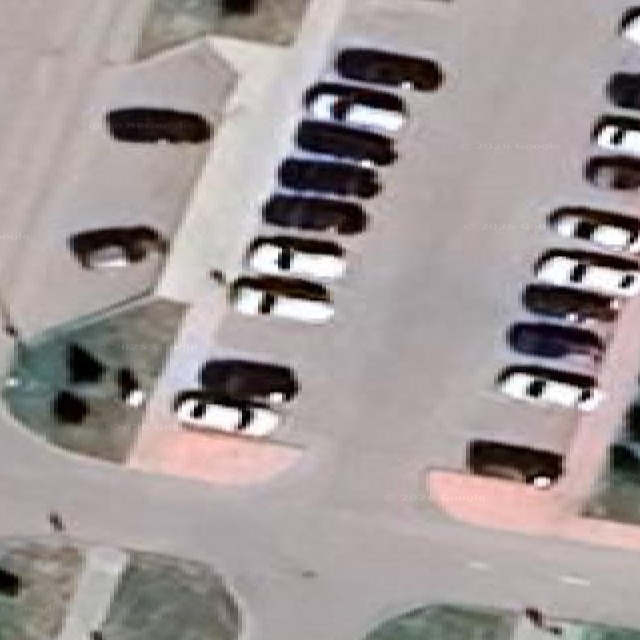car: (304, 83, 404, 131), (173, 390, 279, 435), (533, 251, 639, 296), (232, 276, 332, 323), (336, 47, 442, 91), (495, 366, 600, 409), (467, 440, 562, 487), (296, 120, 395, 164), (200, 359, 295, 404), (263, 192, 366, 233), (247, 236, 344, 279), (508, 322, 604, 364), (548, 207, 639, 251), (68, 227, 166, 267), (522, 283, 620, 323), (592, 116, 639, 155)
